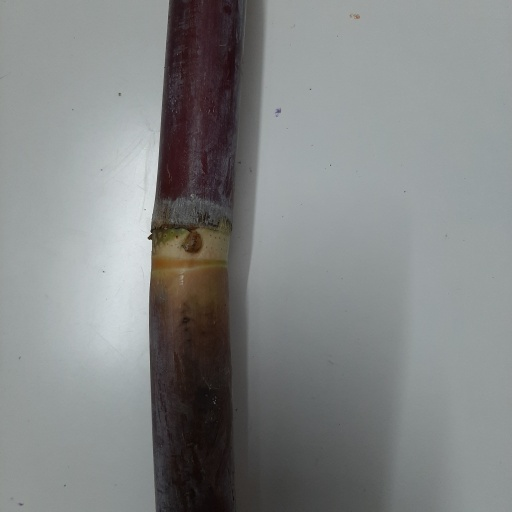Bud: (181, 230, 203, 255)
